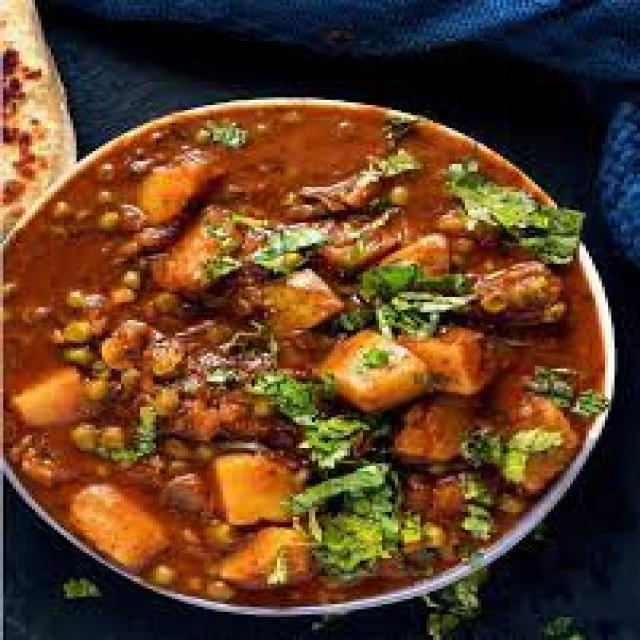aloo_matar: (17, 122, 626, 599)
